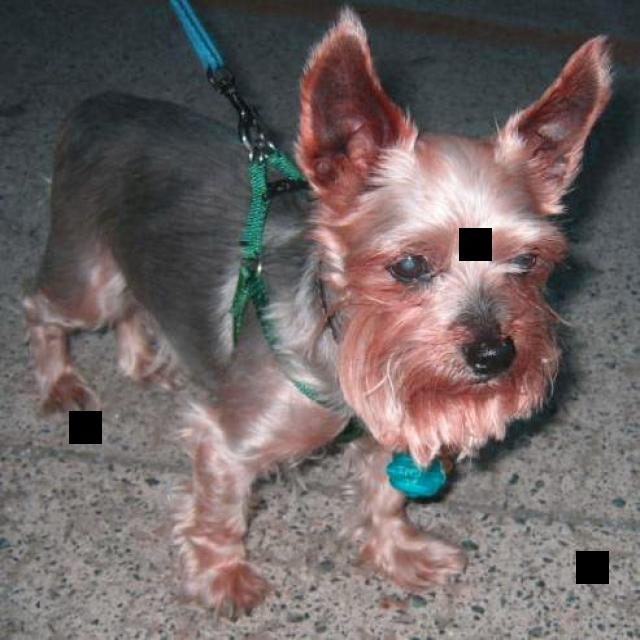adult_dog: (22, 12, 621, 621)
